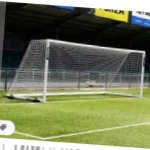goals: (7, 39, 146, 104)
